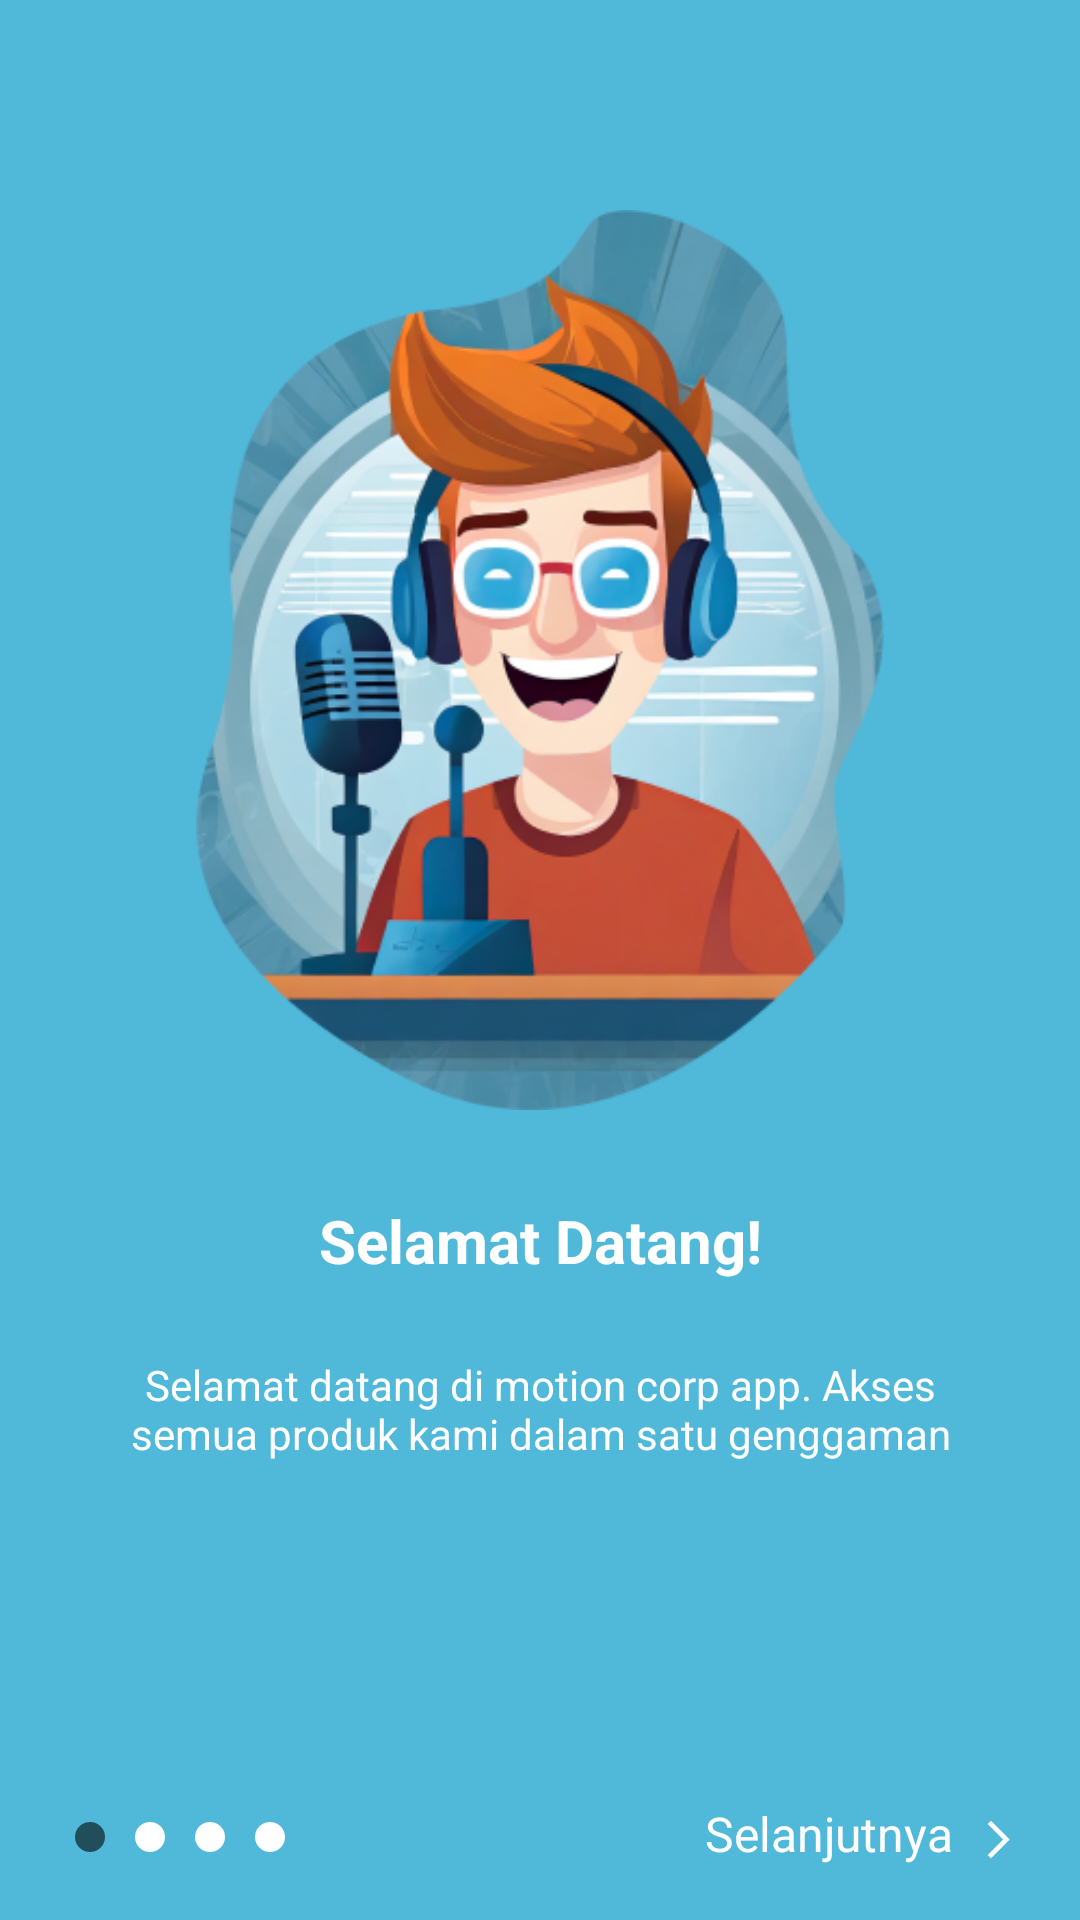

Icon click points for this 1080px x 1920px phone screenshot, format point (x, y):
cont: point (999, 1839)
